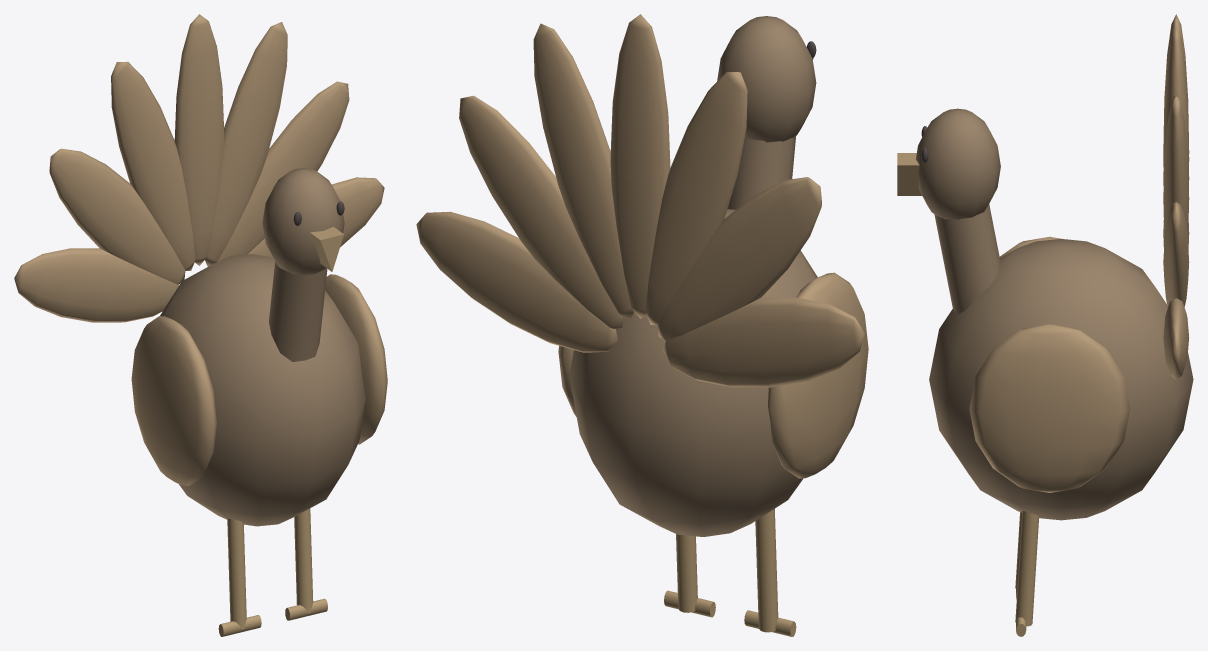
The model's file is turkey.glb.
3 renders of one model, left to right at view 1: azimuth 30°, elevation 25°; view 2: azimuth 150°, elevation 25°; view 3: azimuth 270°, elevation 25°, orthographic. The views are drawn at different scales.
Visible parts, largest first — view 1: turkey-body, wing--1, fan-feather-0, fan-feather-1, fan-feather-2, fan-feather-3, fan-feather-4, fan-feather-5, turkey-head, turkey-neck, wing-1, fan-feather-6 (+3 smaller); view 2: turkey-body, fan-feather-0, fan-feather-6, fan-feather-1, fan-feather-2, fan-feather-3, fan-feather-4, fan-feather-5, wing--1, turkey-head, turkey-neck, turkey-leg--0-07 (+2 smaller); view 3: turkey-body, wing-1, turkey-head, turkey-neck, fan-feather-4, fan-feather-5, turkey-leg-0-07, fan-feather-3, fan-feather-6, beak, fan-feather-2.
Part boxes in pixels (x1=…): turkey-body: x1=160, y1=254, x2=365, y2=526; wing--1: x1=131, y1=316, x2=216, y2=486; fan-feather-0: x1=14, y1=248, x2=178, y2=322; fan-feather-1: x1=49, y1=148, x2=185, y2=284; fan-feather-2: x1=111, y1=61, x2=195, y2=270; fan-feather-3: x1=174, y1=14, x2=224, y2=265; fan-feather-4: x1=205, y1=22, x2=287, y2=266; fan-feather-5: x1=217, y1=81, x2=349, y2=261; turkey-head: x1=262, y1=168, x2=344, y2=275; turkey-neck: x1=269, y1=262, x2=327, y2=361; wing-1: x1=325, y1=274, x2=387, y2=444; fan-feather-6: x1=248, y1=177, x2=384, y2=256; turkey-body: x1=569, y1=209, x2=817, y2=536; fan-feather-0: x1=663, y1=297, x2=864, y2=387; fan-feather-6: x1=416, y1=211, x2=617, y2=352; fan-feather-1: x1=657, y1=177, x2=821, y2=341; fan-feather-2: x1=645, y1=72, x2=747, y2=324; fan-feather-3: x1=610, y1=14, x2=670, y2=318; fan-feather-4: x1=533, y1=23, x2=633, y2=319; fan-feather-5: x1=459, y1=95, x2=623, y2=328; wing--1: x1=768, y1=272, x2=868, y2=478; turkey-head: x1=717, y1=16, x2=816, y2=142; turkey-neck: x1=727, y1=136, x2=795, y2=209; turkey-leg--0-07: x1=755, y1=509, x2=778, y2=632; turkey-body: x1=929, y1=239, x2=1193, y2=520; wing-1: x1=969, y1=324, x2=1130, y2=492; turkey-head: x1=916, y1=108, x2=1000, y2=219; turkey-neck: x1=934, y1=204, x2=1000, y2=314; fan-feather-4: x1=1163, y1=95, x2=1189, y2=239; fan-feather-5: x1=1163, y1=201, x2=1189, y2=306; turkey-leg-0-07: x1=1015, y1=511, x2=1038, y2=626; fan-feather-3: x1=1163, y1=27, x2=1189, y2=178; fan-feather-6: x1=1163, y1=298, x2=1189, y2=380; beak: x1=897, y1=153, x2=921, y2=195; fan-feather-2: x1=1163, y1=14, x2=1189, y2=153.
Size of the model in its own units: 0.7807 by 1.12 by 0.515.
